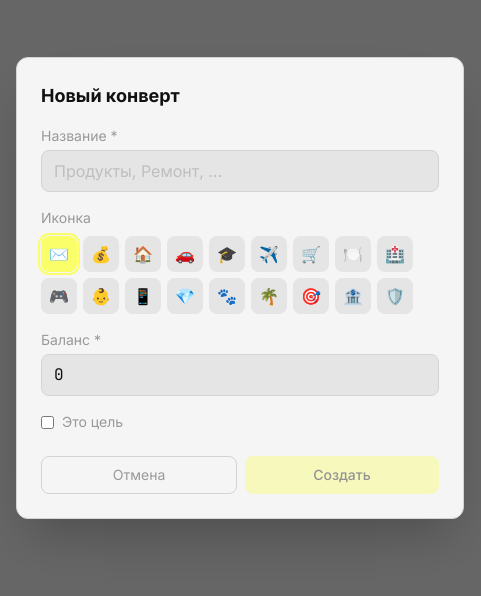
EnvelopeModal › create mode › показывает поле целевой суммы после включения «Это цель»
The width and height of the screenshot is (481, 596).
Click the checkbox labelled "Это цель". click: [48, 422]
box: [41,416,54,428]
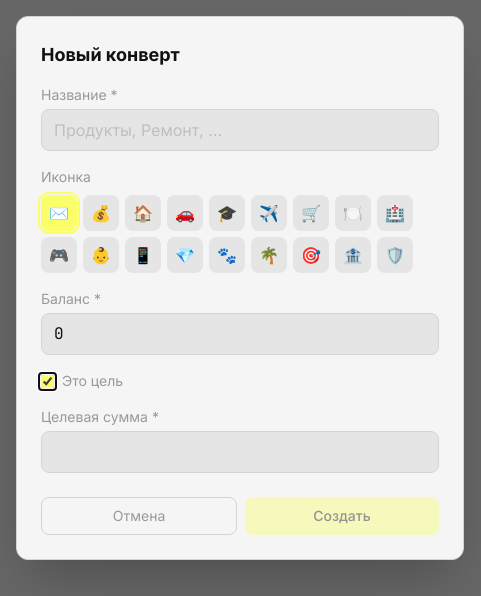
Now the text "Целевая сумма *" is shown, box [41,408,159,425]
